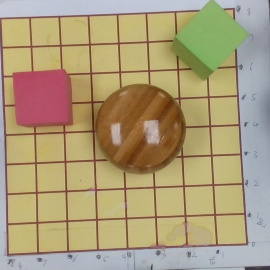chess: (94, 84, 186, 176)
